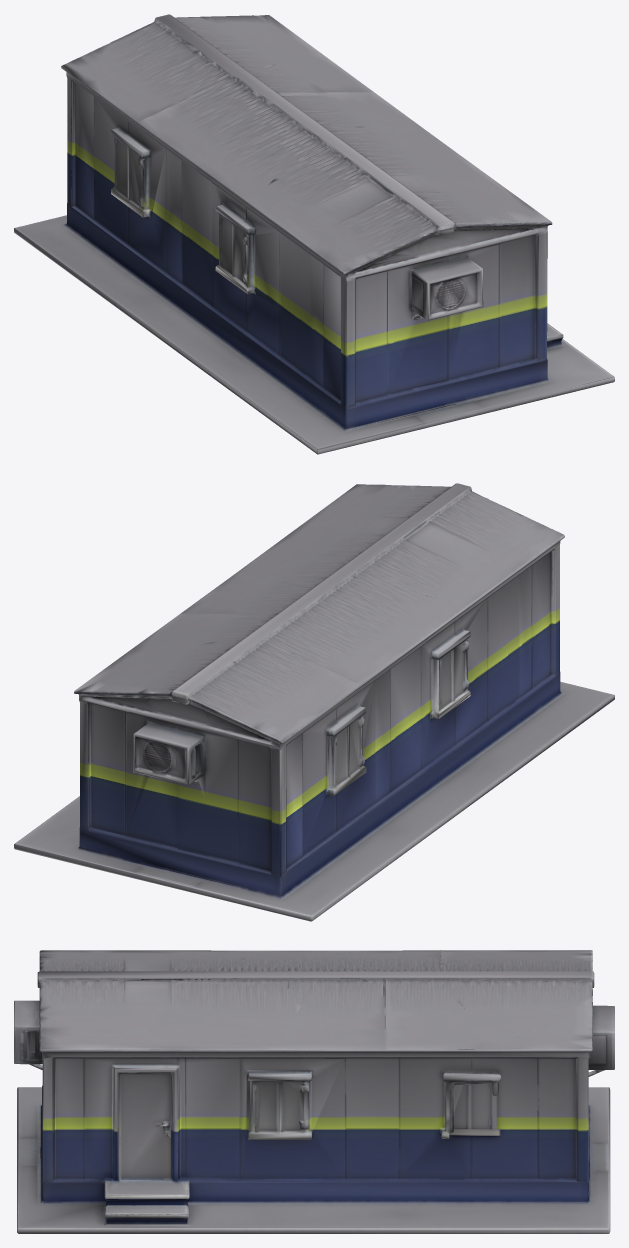
The picture shows the model from 3 angles, top to bottom: view 1: azimuth 30°, elevation 25°; view 2: azimuth 150°, elevation 25°; view 3: azimuth 270°, elevation 25°; orthographic projection. The views are drawn at different scales.
Parts seen in each view (by area): view 1: repaired; view 2: repaired; view 3: repaired.
Part boxes in pixels (bbox=[...]): repaired: bbox=[14, 14, 614, 454]; repaired: bbox=[14, 483, 614, 921]; repaired: bbox=[14, 950, 614, 1233].
Size of the model in its own units: 0.5601 by 0.3394 by 0.9997.
1 material, 1 textured.
